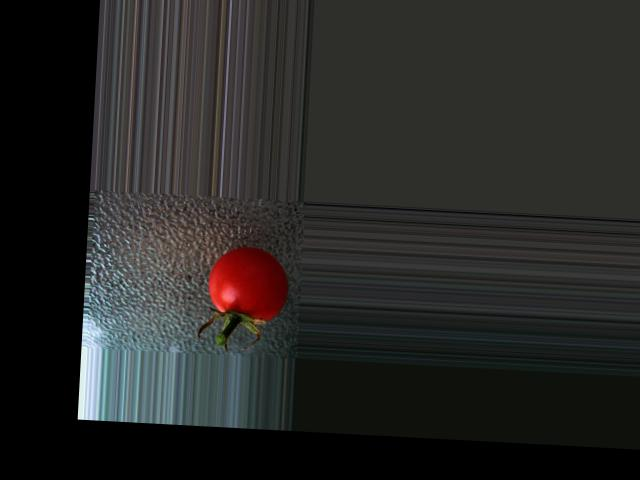tomato: (205, 244, 289, 322)
